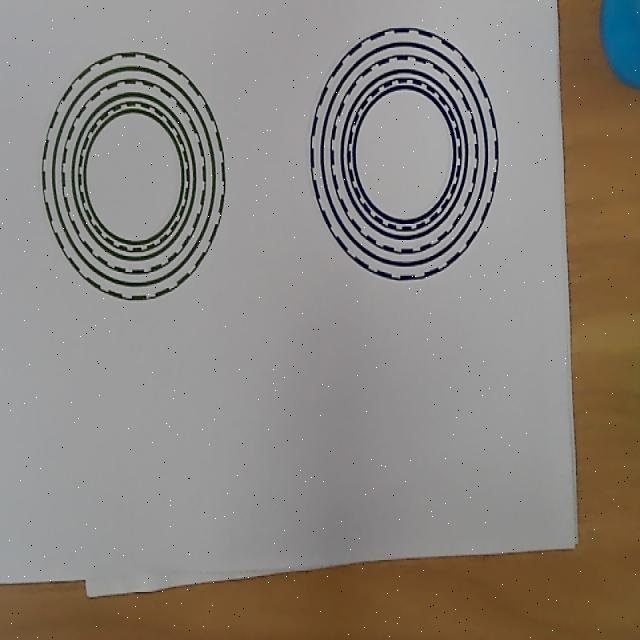b: (309, 26, 499, 280)
g: (41, 51, 225, 303)
